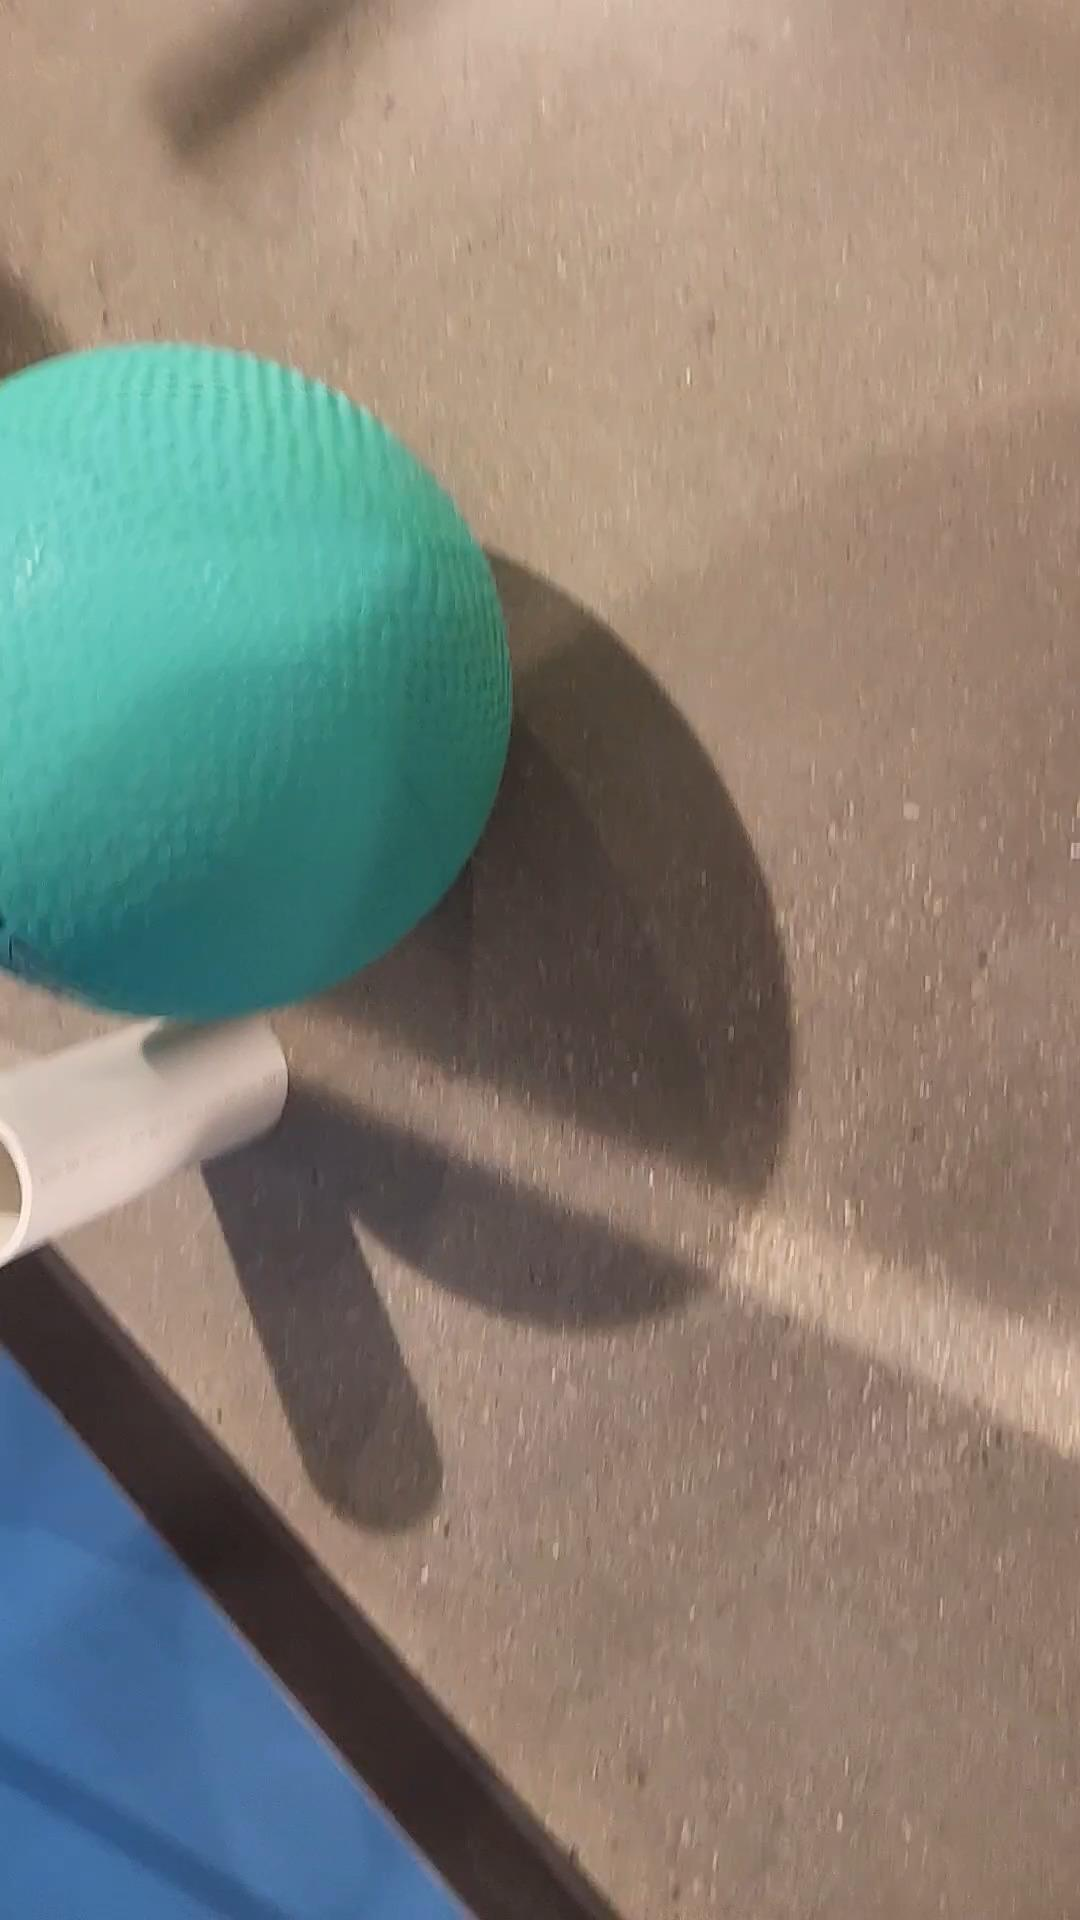algae: (0, 344, 526, 1023)
coral: (0, 1011, 307, 1246)
